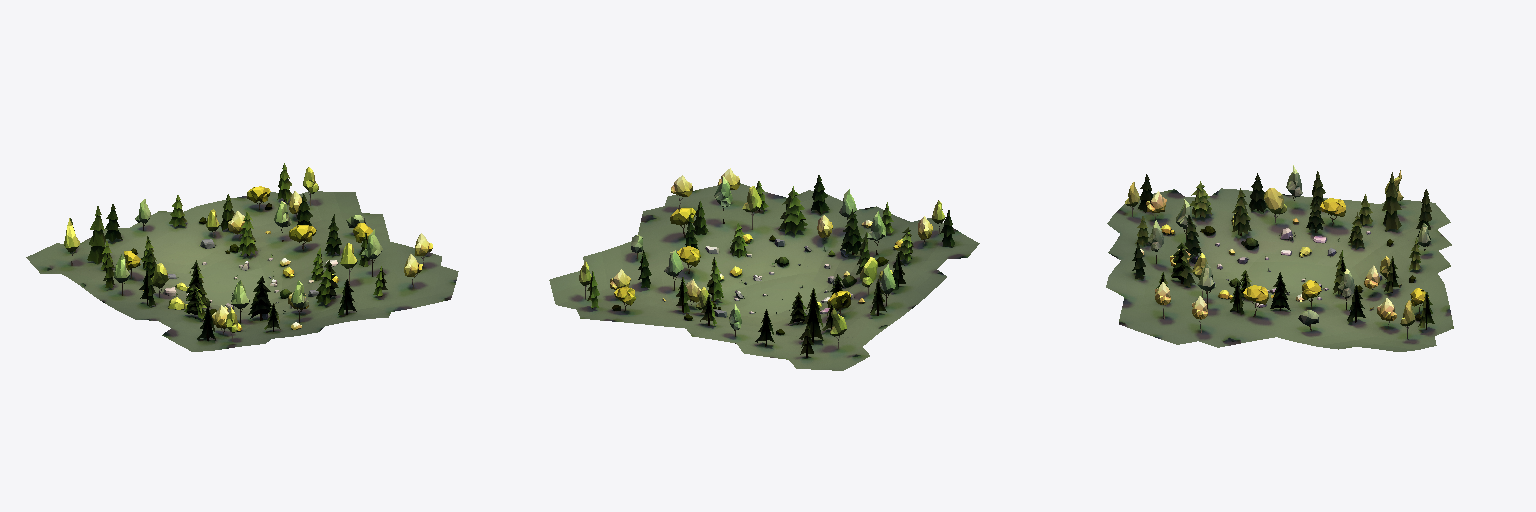
3 views of the same model, side by side, from view 1: azimuth 30°, elevation 25°; view 2: azimuth 150°, elevation 25°; view 3: azimuth 270°, elevation 25° (orthographic).
Visible parts, largest first — view 1: Mountains.001_Plane.106; view 2: Mountains.001_Plane.106; view 3: Mountains.001_Plane.106.
Part boxes in pixels (x1,y1,x2,y2): Mountains.001_Plane.106: (26, 163, 458, 351); Mountains.001_Plane.106: (549, 168, 979, 370); Mountains.001_Plane.106: (1106, 165, 1453, 351).
Bounding box in the file's own units: 57.6 × 12.21 × 54.53.
Materials: 1 (1 with a texture image).